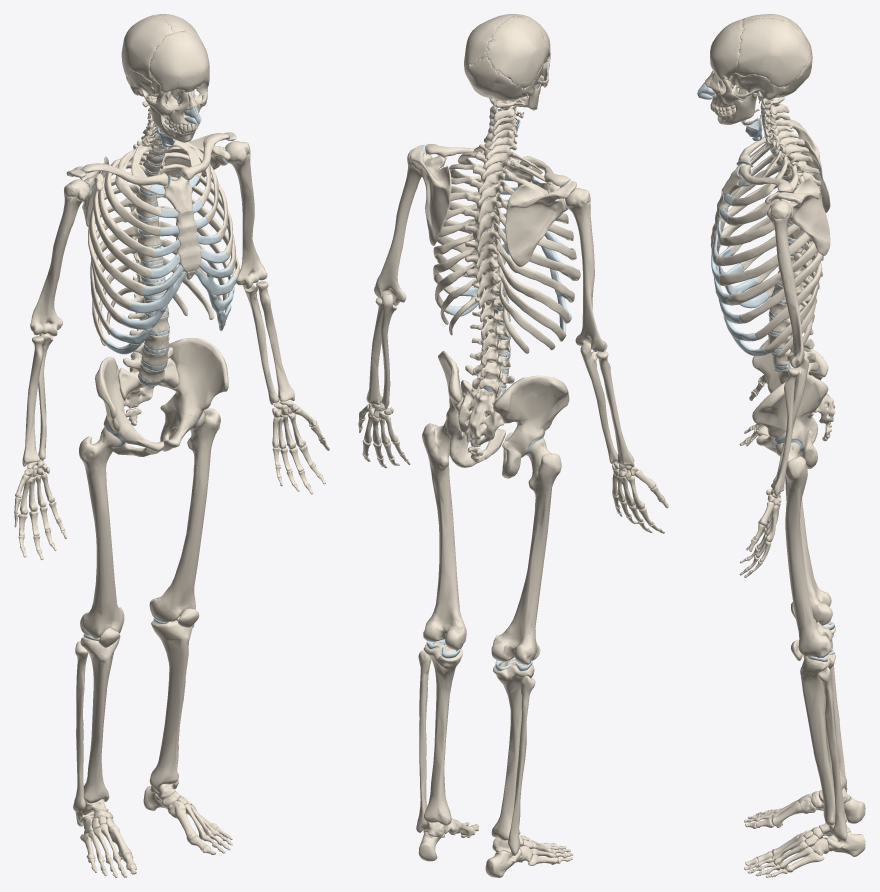
File: squelette.glb
The picture shows the model from 3 angles, left to right: view 1: azimuth 30°, elevation 25°; view 2: azimuth 150°, elevation 25°; view 3: azimuth 270°, elevation 25°; orthographic projection.
Visible parts, largest first — view 1: Femur.r, Femur.l, Hip bone.l, Tibia.l, Frontal bone, Tibia.r, Humerus.r, Humerus.l, Hip bone.r, Parietal bone.r, Fibula.r, Sacrum (+17 smaller); view 2: Femur.r, Femur.l, Hip bone.r, Scapula.r, Parietal bone.r, Tibia.l, Tibia.r, Humerus.r, Humerus.l, Hip bone.l, Scapula.l, Sacrum (+15 smaller); view 3: Femur.l, Parietal bone.l, Hip bone.l, Tibia.l, Humerus.l, Scapula.l, Fibula.l, Frontal bone, Hip bone.r, Femur.r, Radius.l, Scapula.r (+21 smaller).
Boxes of the visible parts, x1,y1,x2,y2 form: Femur.r: (79,428,124,638); Femur.l: (149,408,220,622); Hip bone.l: (160,338,228,451); Tibia.l: (149,616,193,789); Frontal bone: (149,31,209,93); Tibia.r: (80,635,120,803); Humerus.r: (30,179,90,336); Humerus.l: (225,141,267,288); Hip bone.r: (95,357,164,456); Parietal bone.r: (121,15,175,81); Fibula.r: (73,641,88,812); Sacrum: (118,358,178,408); Femur.r: (491,438,561,664); Femur.l: (422,420,466,649); Hip bone.r: (493,375,569,478); Scapula.r: (505,181,576,266); Parietal bone.r: (486,15,548,88); Tibia.l: (423,642,462,825); Tibia.r: (491,659,534,840); Humerus.r: (565,187,607,352); Humerus.l: (374,149,431,305); Hip bone.l: (438,351,505,467); Scapula.l: (410,145,451,245); Sacrum: (458,380,504,446); Femur.l: (775,442,832,657); Parietal bone.l: (735,17,810,86); Hip bone.l: (752,374,828,468); Tibia.l: (800,654,846,825); Humerus.l: (766,200,804,368); Scapula.l: (765,177,830,255); Fibula.l: (817,667,847,841); Frontal bone: (710,19,743,79); Hip bone.r: (752,339,828,443); Femur.r: (785,455,832,625); Radius.l: (771,368,799,496); Scapula.r: (782,119,830,212).
Bounding box in the file's own units: 0.6659 × 1.69 × 0.3115.
